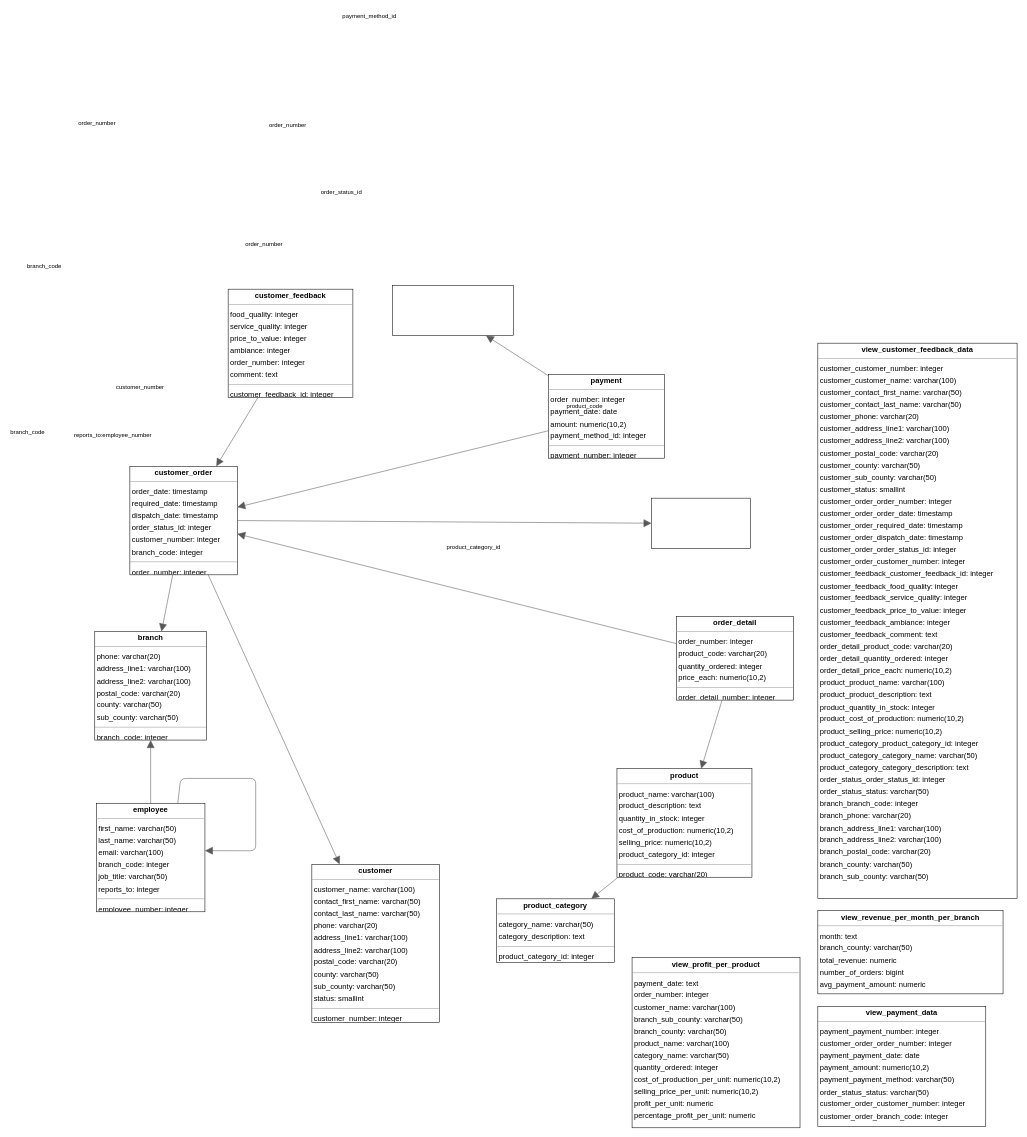
Image size: 1027x1137. Some labels were removed from this diagram. Each missing label, with the centre of its shape:
"order_status status: varchar(50) order_status_id: integer" goes at point (700, 523).
"payment_method payment_method: varchar(50) payment_method_id: integer" goes at point (452, 310).
